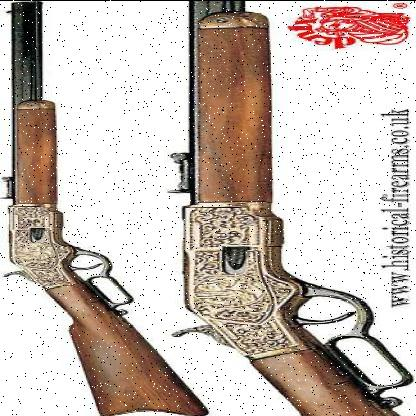rifle: (162, 1, 412, 416), (2, 1, 209, 416)
